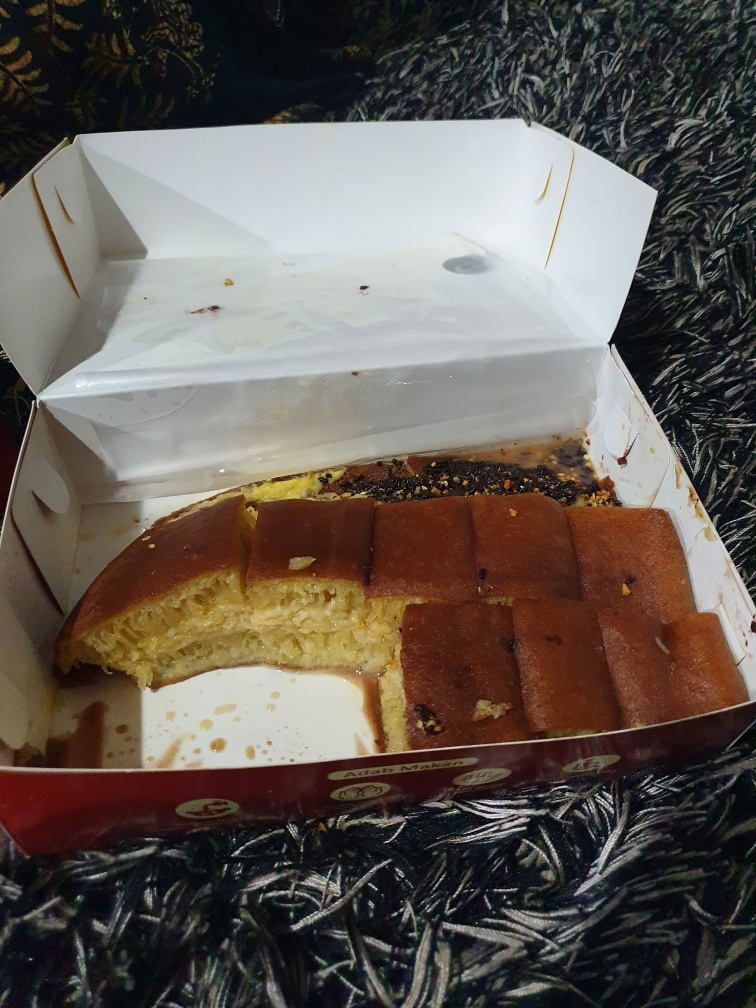martabak manis: (62, 494, 257, 691), (251, 492, 367, 693), (363, 614, 513, 750), (588, 608, 735, 726), (558, 500, 703, 619), (504, 594, 610, 736), (357, 491, 481, 606), (468, 486, 576, 600)
